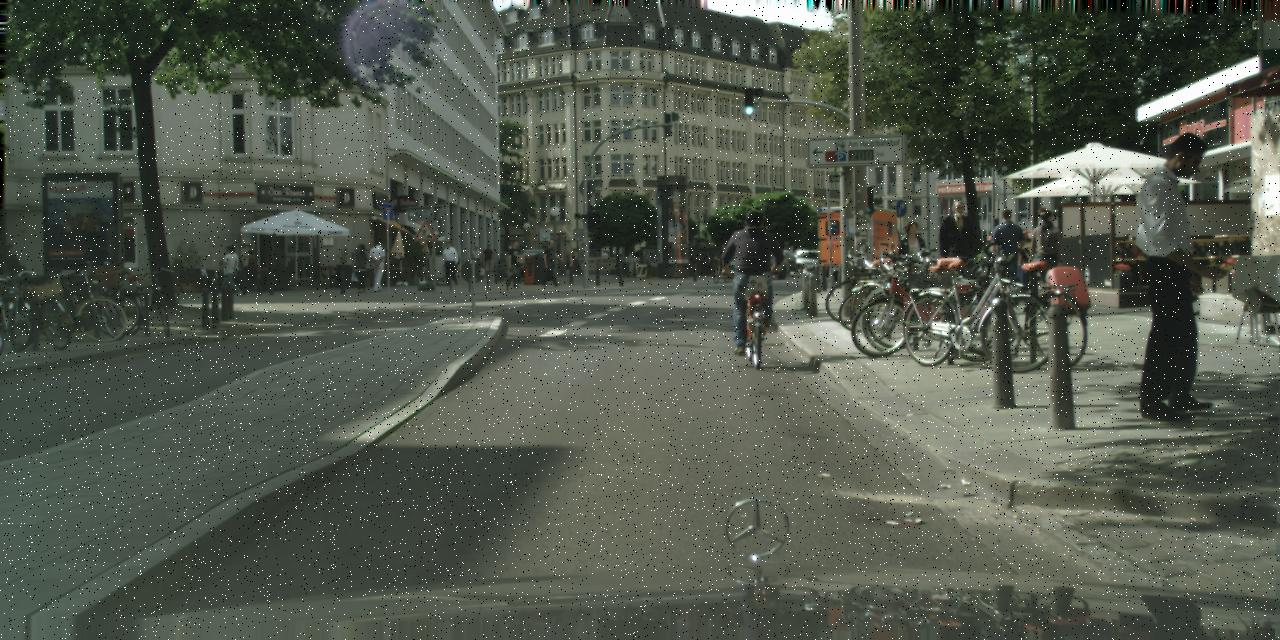ped: (1128, 131, 1242, 410), (728, 208, 780, 337), (936, 200, 980, 307), (1026, 207, 1068, 312), (987, 207, 1027, 305), (896, 221, 930, 301), (0, 243, 23, 313), (218, 246, 238, 296), (368, 240, 388, 290), (351, 244, 371, 292), (541, 238, 560, 287), (224, 246, 243, 294), (504, 239, 523, 287), (240, 250, 259, 296), (441, 240, 459, 284), (480, 244, 494, 278), (470, 246, 482, 276), (717, 244, 729, 274), (562, 252, 570, 274)
